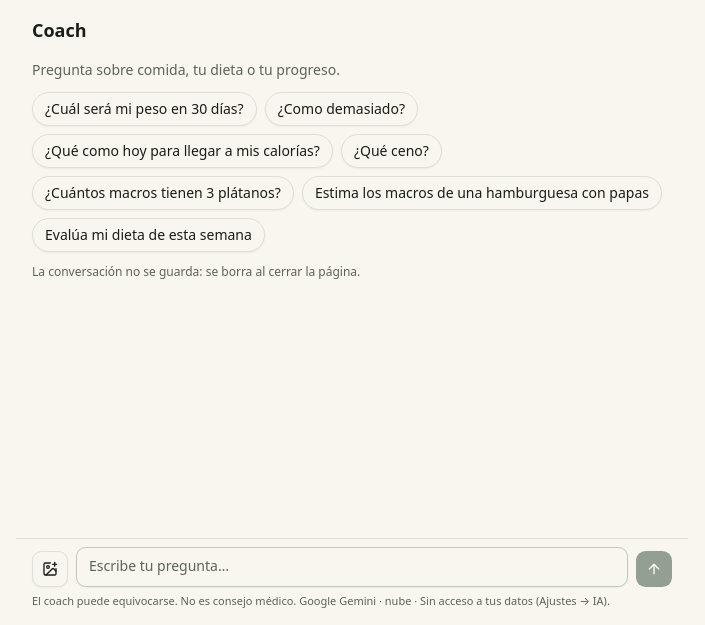
Test: Coach › sin permiso para ver tus datos no los lee ni los envía
This screenshot has width=705, height=625.
Click the button "¿Como demasiado?": point(341, 109) [265, 92, 418, 126]
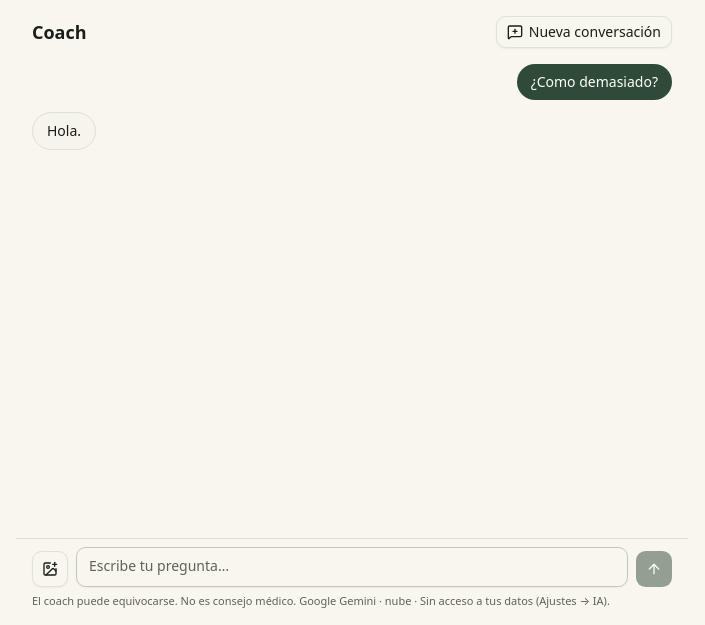
Check: the text "Hola." is shown, box [47, 121, 81, 141]
